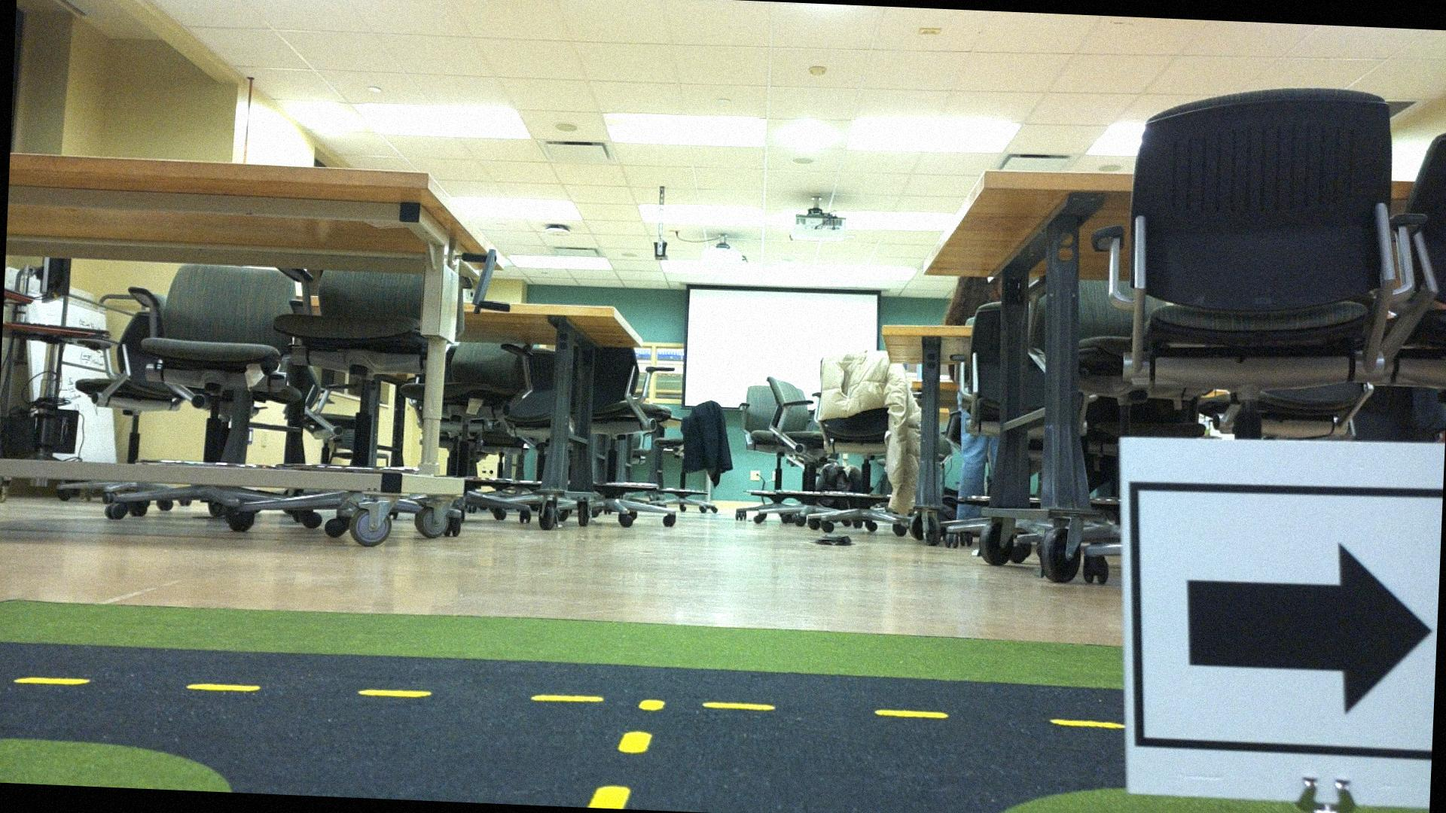turnleft: (1116, 436, 1442, 808)
yellowline: (16, 673, 1100, 730), (593, 729, 648, 810)
